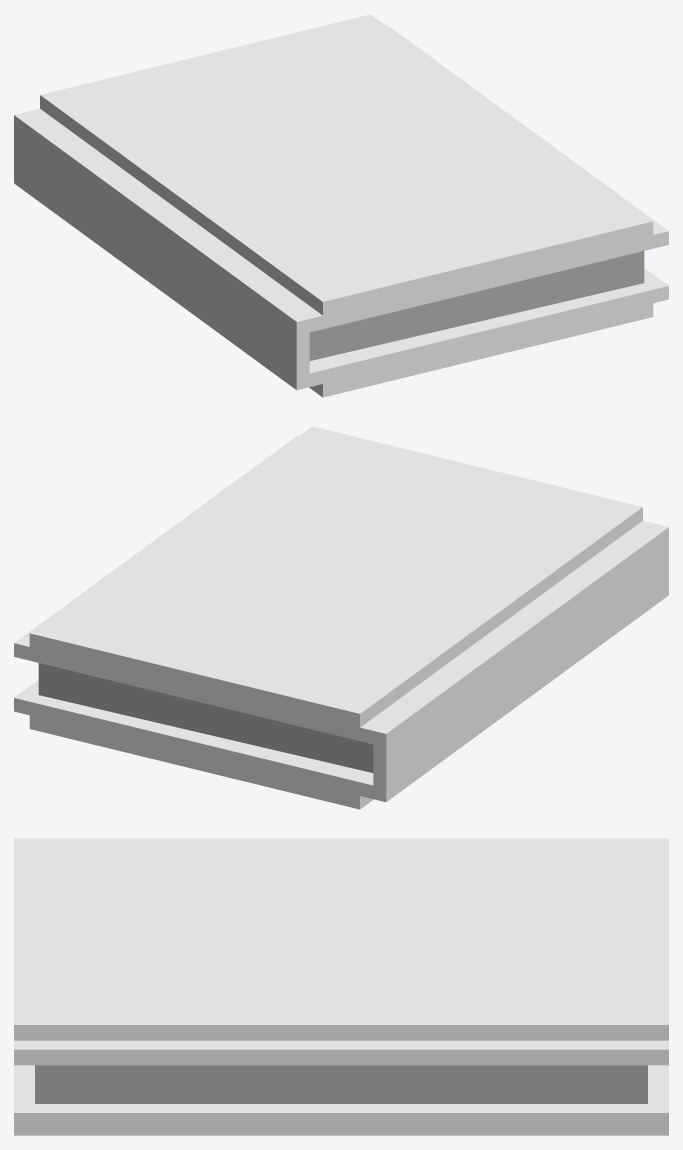
The model's file is Book.fbx.
The picture shows the model from 3 angles, top to bottom: view 1: azimuth 30°, elevation 25°; view 2: azimuth 150°, elevation 25°; view 3: azimuth 270°, elevation 25°; orthographic projection. The views are drawn at different scales.
Parts seen in each view (by area): view 1: Book; view 2: Book; view 3: Book.
Boxes of the visible parts, box(x1,y1,x2,y2) form: Book: box(14, 14, 668, 397); Book: box(14, 426, 668, 809); Book: box(14, 838, 668, 1135).
Bounding box in the file's own units: 22.8 × 5.6 × 30.
